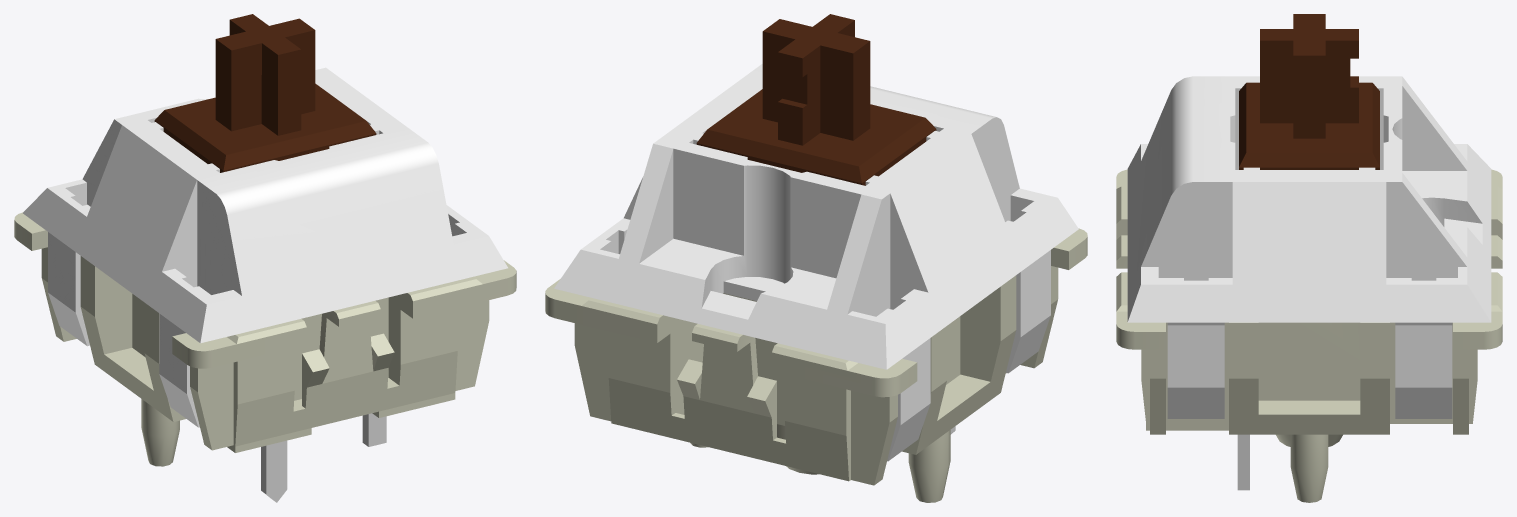
Rendered from m_CherryMXBrown.fbx.
3 views of the same model, side by side, from view 1: azimuth 30°, elevation 25°; view 2: azimuth 150°, elevation 25°; view 3: azimuth 270°, elevation 25° (orthographic). The views are drawn at different scales.
Visible parts, largest first — view 1: Low Top PCB LED, Low Bottom PCB LED, Low Switch PCB LED, Low Wire PCB LED; view 2: Low Top PCB LED, Low Bottom PCB LED, Low Switch PCB LED; view 3: Low Top PCB LED, Low Bottom PCB LED, Low Switch PCB LED, Low Wire PCB LED.
Part boxes in pixels (box(x1,y1,x2,y2)): Low Top PCB LED: box(23, 67, 507, 427); Low Bottom PCB LED: box(14, 212, 516, 466); Low Switch PCB LED: box(154, 14, 376, 172); Low Wire PCB LED: box(261, 413, 386, 502); Low Top PCB LED: box(554, 64, 1078, 461); Low Bottom PCB LED: box(545, 228, 1087, 502); Low Switch PCB LED: box(696, 14, 936, 185); Low Top PCB LED: box(1127, 76, 1491, 418); Low Bottom PCB LED: box(1116, 169, 1502, 502); Low Switch PCB LED: box(1239, 14, 1379, 169); Low Wire PCB LED: box(1237, 434, 1249, 490).
Size of the model in its own units: 1.56 by 1.86 by 1.56.
